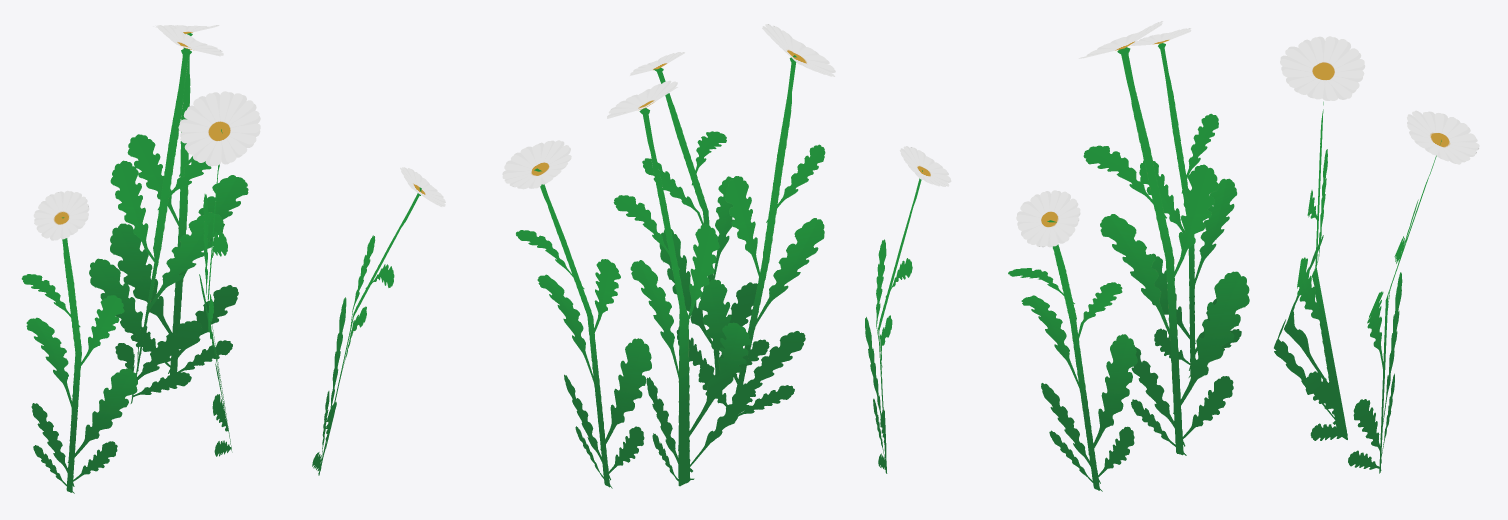
The model's file is PT_Daisy_02.fbx.
3 views of the same model, side by side, from view 1: azimuth 30°, elevation 25°; view 2: azimuth 150°, elevation 25°; view 3: azimuth 270°, elevation 25° (orthographic). The views are drawn at different scales.
Visible parts, largest first — view 1: PT_Daisy_02_LOD0; view 2: PT_Daisy_02_LOD0; view 3: PT_Daisy_02_LOD0.
Boxes of the visible parts, x1=… form: PT_Daisy_02_LOD0: x1=21, y1=25, x2=445, y2=493; PT_Daisy_02_LOD0: x1=502, y1=24, x2=951, y2=488; PT_Daisy_02_LOD0: x1=1008, y1=21, x2=1479, y2=491.
Size of what is drawn, in the model's own units: 64.04 by 66.32 by 67.4.
